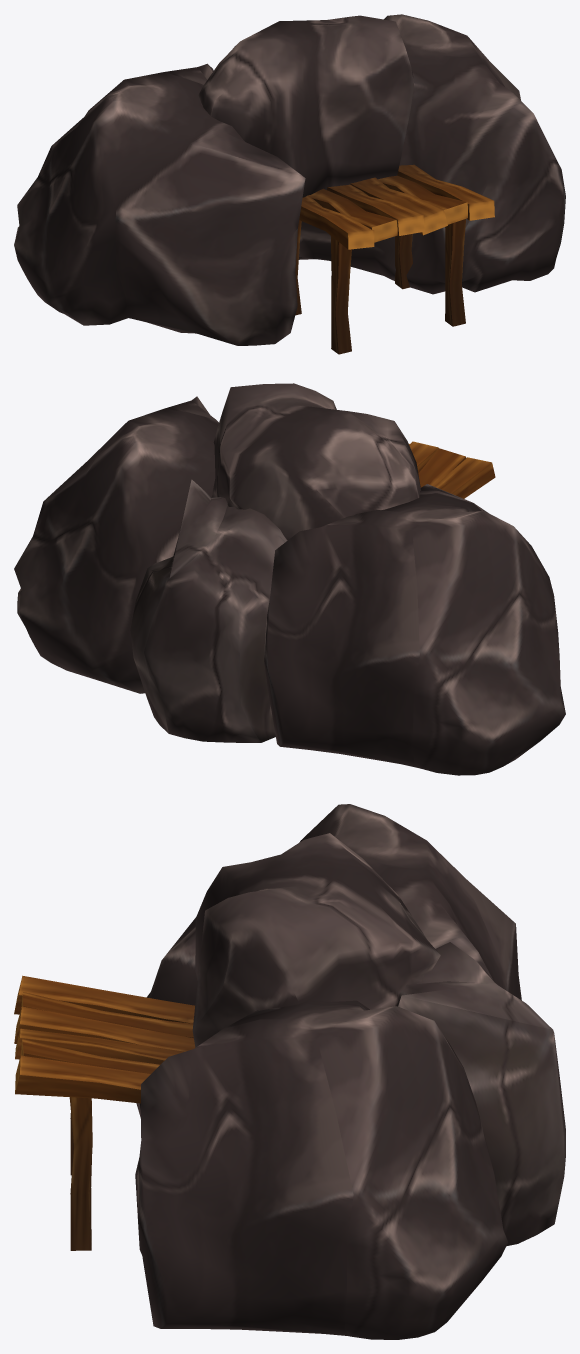
File: rock_22.fbx
3 renders of one model, top to bottom at view 1: azimuth 30°, elevation 25°; view 2: azimuth 150°, elevation 25°; view 3: azimuth 270°, elevation 25°, orthographic. The views are drawn at different scales.
Parts seen in each view (by area): view 1: rock_22; view 2: rock_22; view 3: rock_22.
Part boxes in pixels (x1,y1,x2,y2): rock_22: [14, 14, 565, 354]; rock_22: [14, 383, 565, 775]; rock_22: [14, 804, 565, 1339].
Size of the model in its own units: 8.37 by 4.16 by 6.11.
